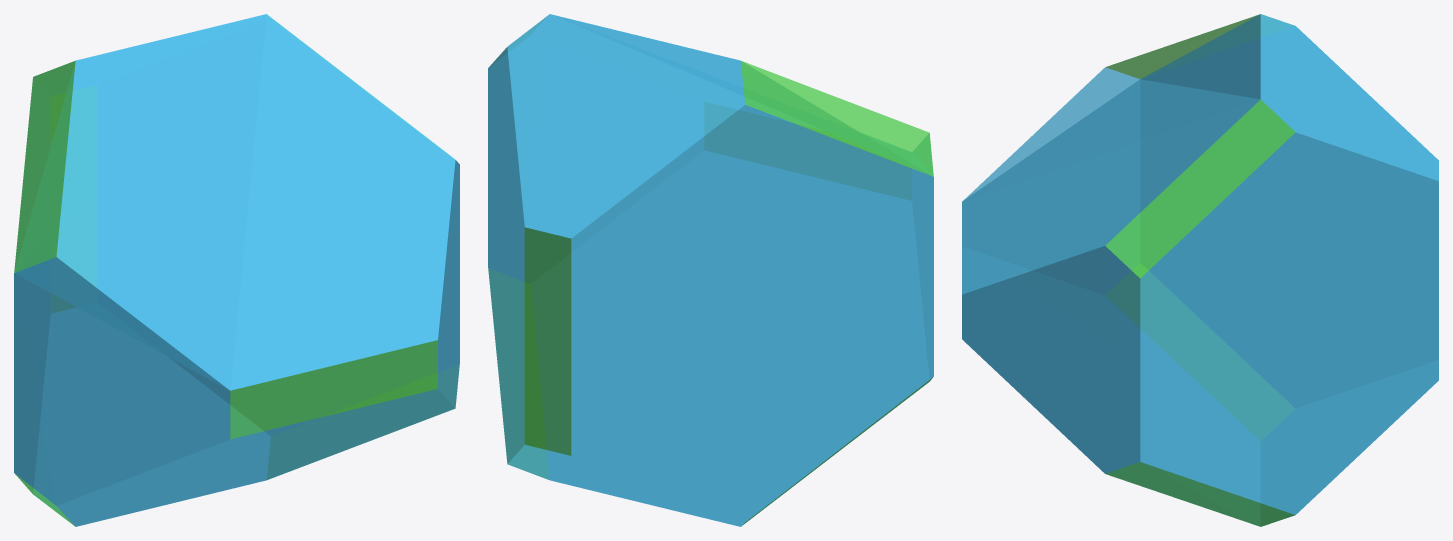
File: Mobius24Dual.obj
The picture shows the model from 3 angles, left to right: view 1: azimuth 30°, elevation 25°; view 2: azimuth 150°, elevation 25°; view 3: azimuth 270°, elevation 25°; orthographic projection. The views are drawn at different scales.
Bounding box in the file's own units: 1.23 × 1.23 × 1.24.
